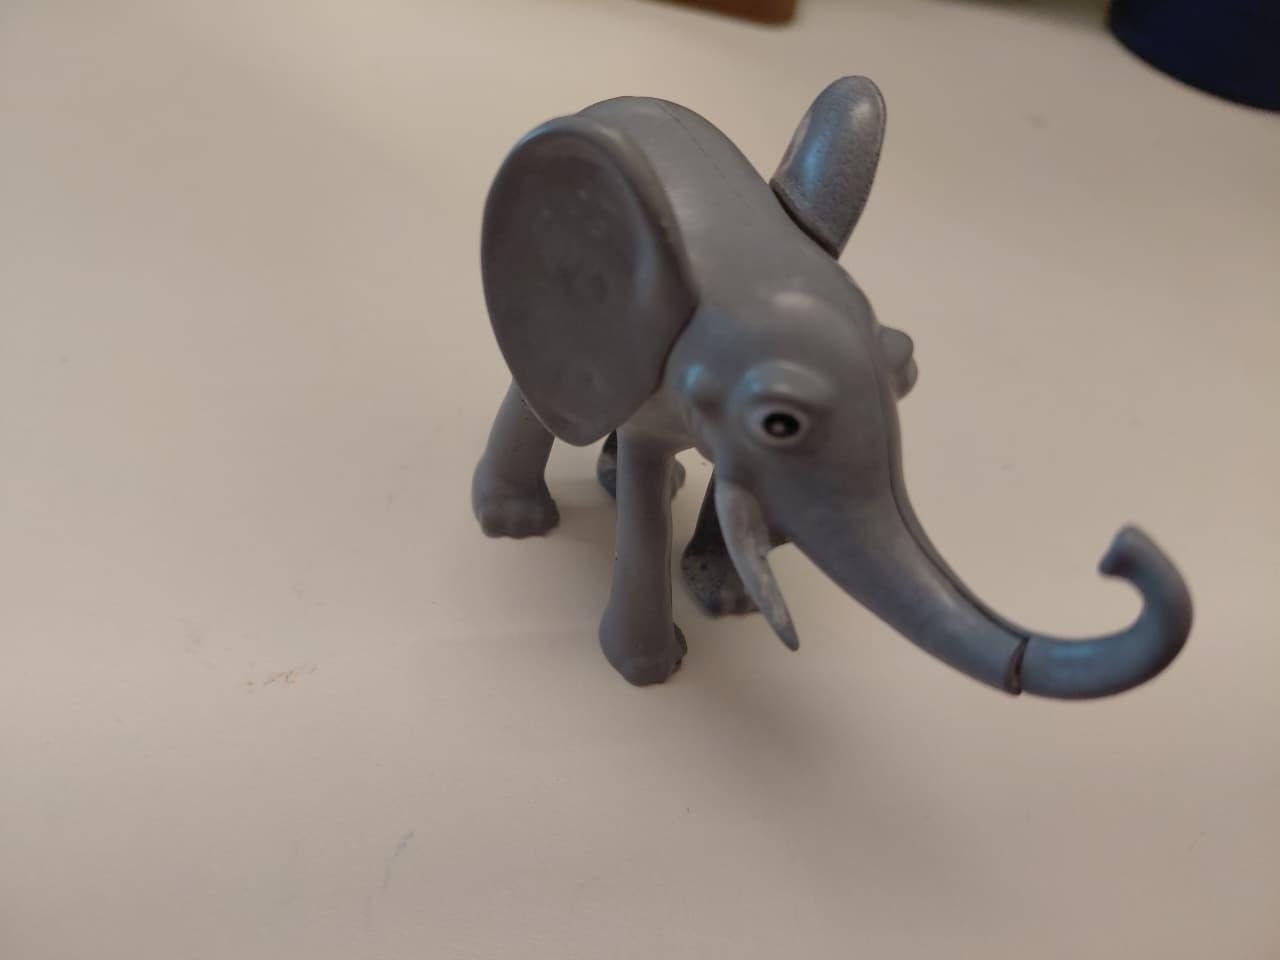elephant: (456, 69, 1266, 775)
